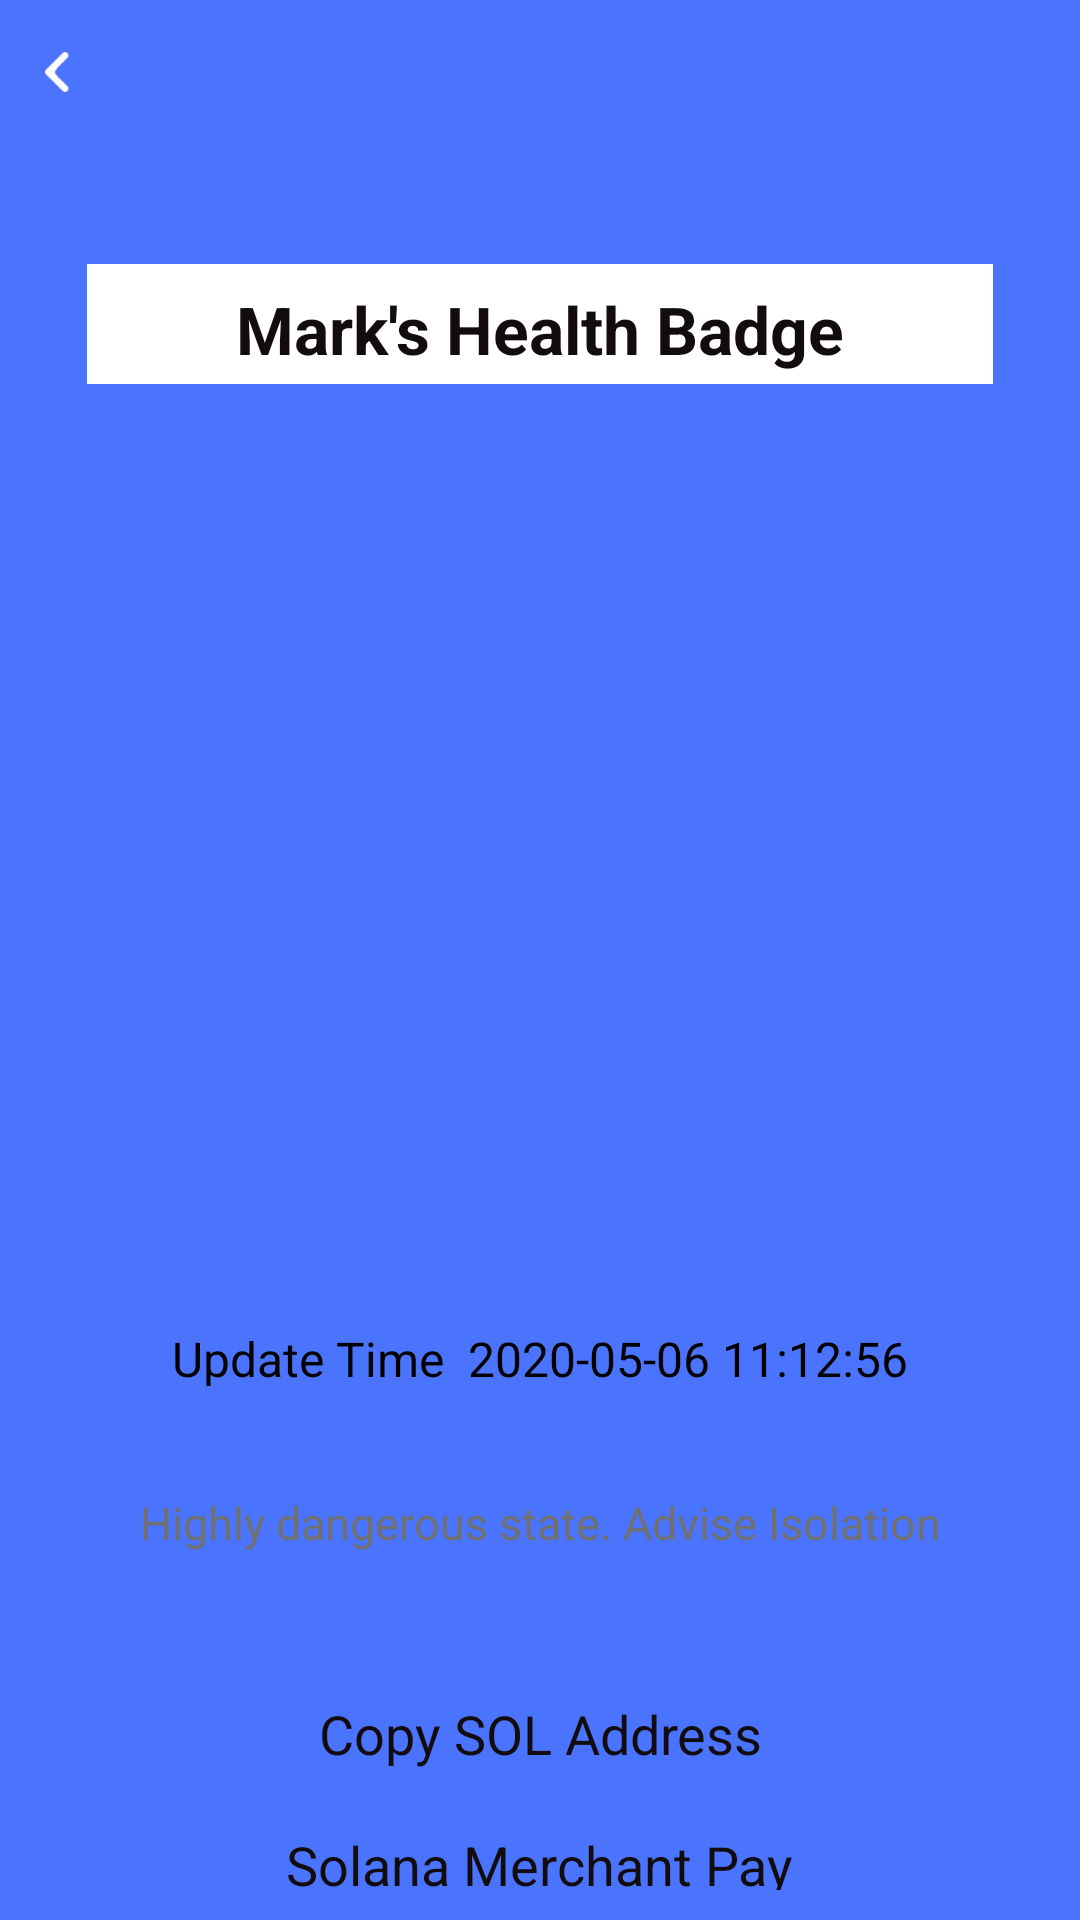

Icon bounding boxes for this 1080 x 1920 phone screenshot, format (x1=x1, y1=y1, x2=x2, y2=y2):
back: (x1=45, y1=52, x2=69, y2=92)
